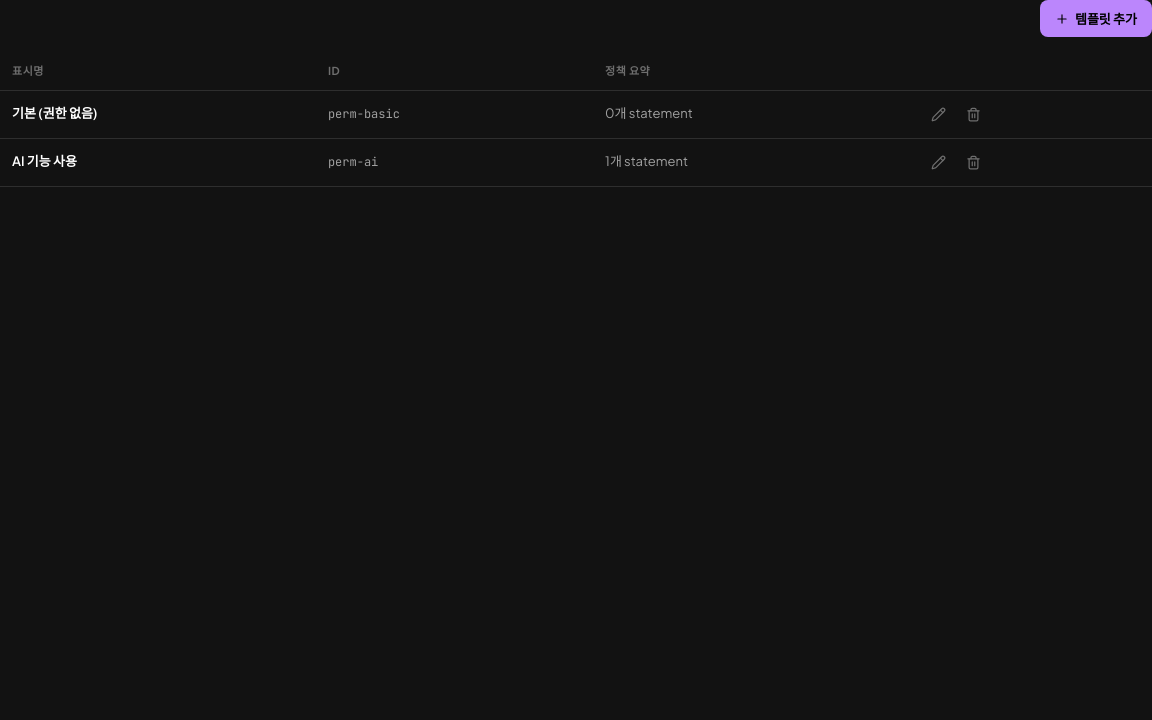
Scenario: M3 — 권한 템플릿 삭제 › 사용 중(409 IN_USE)이면 서버 message 를 보여주고 목록은 그대로 둔다
What coordinates should you click on to do the following:
click the button named "삭제" in the row of "AI 기능 사용"
I would click on:
 (974, 162)
Its box is [962,150,985,174].
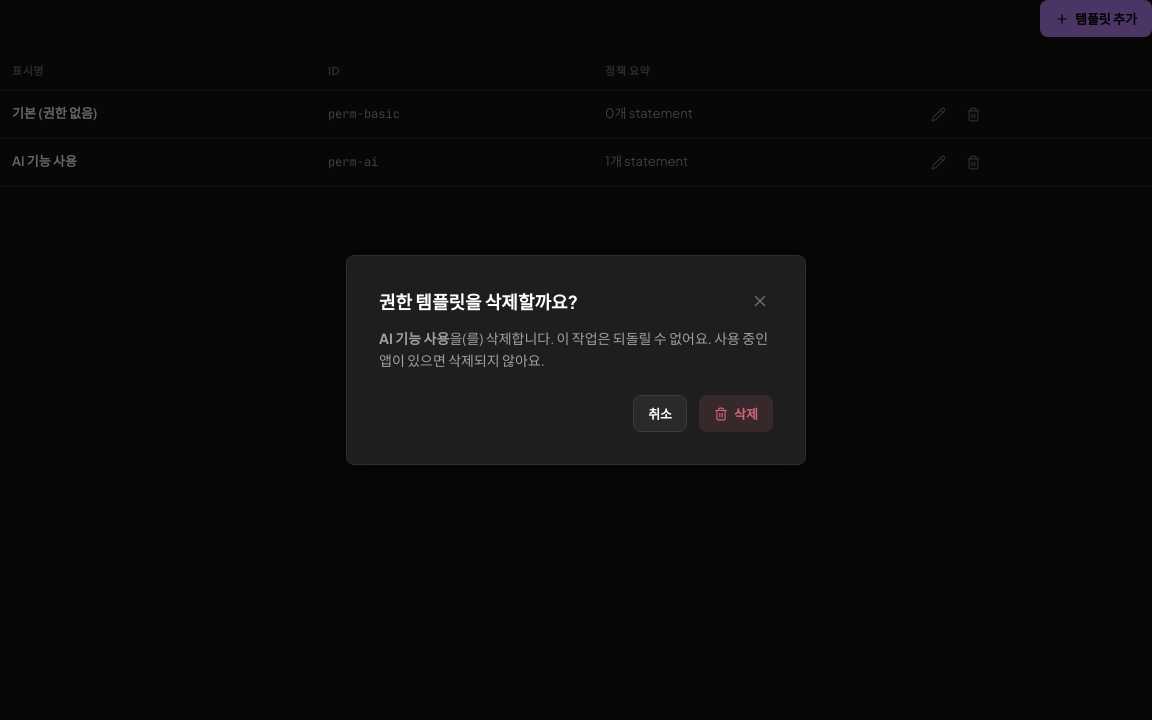
What coordinates should you click on to do the following:
click the button "삭제"
I would click on:
 (736, 414)
Its box is [699,395,773,432].
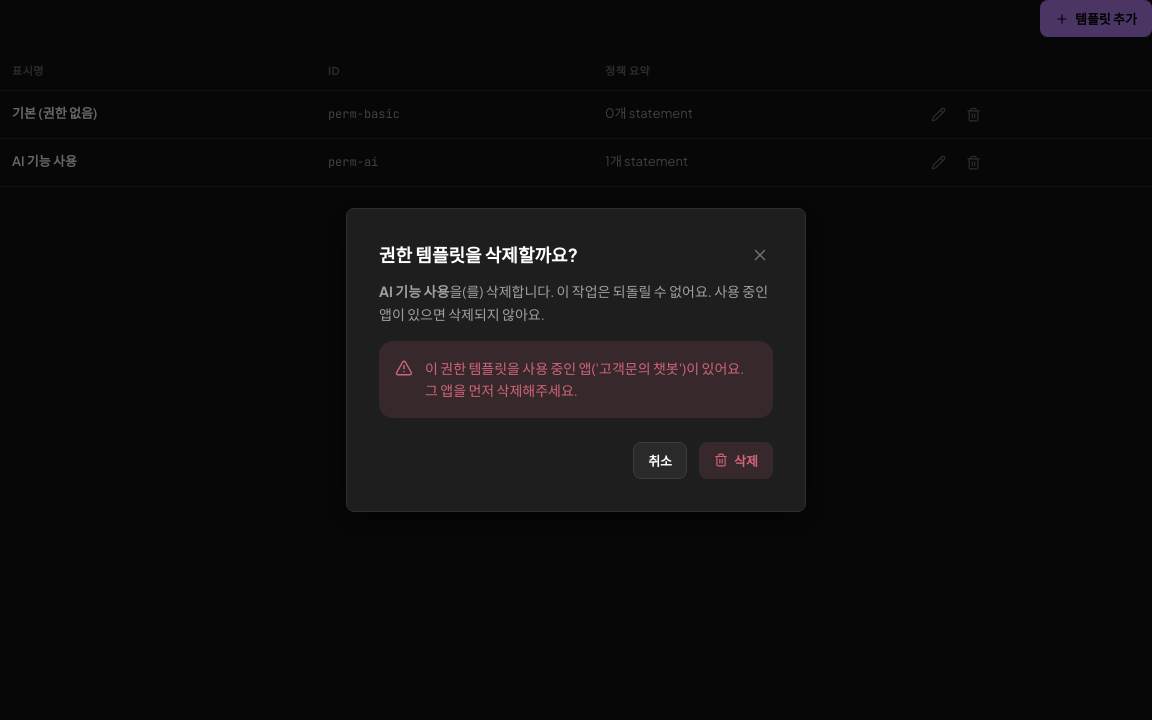
Expected: the text "perm-ai" is shown, [316,138,593,186]
Result: the message shows "이 권한 템플릿을 사용 중인 앱" at [425,359,744,399]
